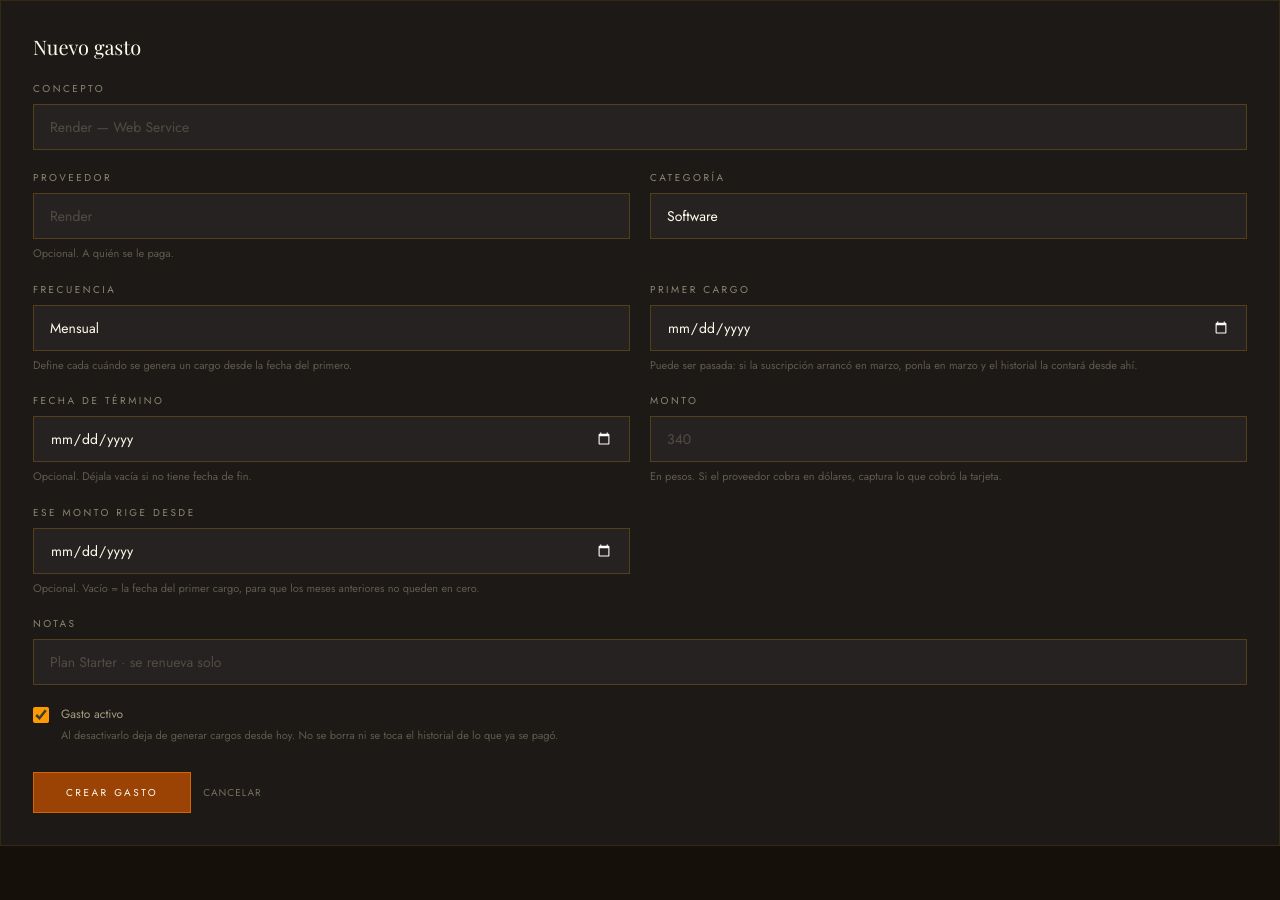
Test: ExpenseForm › validación (espejo del backend) › exige un concepto
The image size is (1280, 900).
Type "2026-03-01" into the date field labelled "Primer cargo" at (948, 328), box [650, 304, 1247, 350]
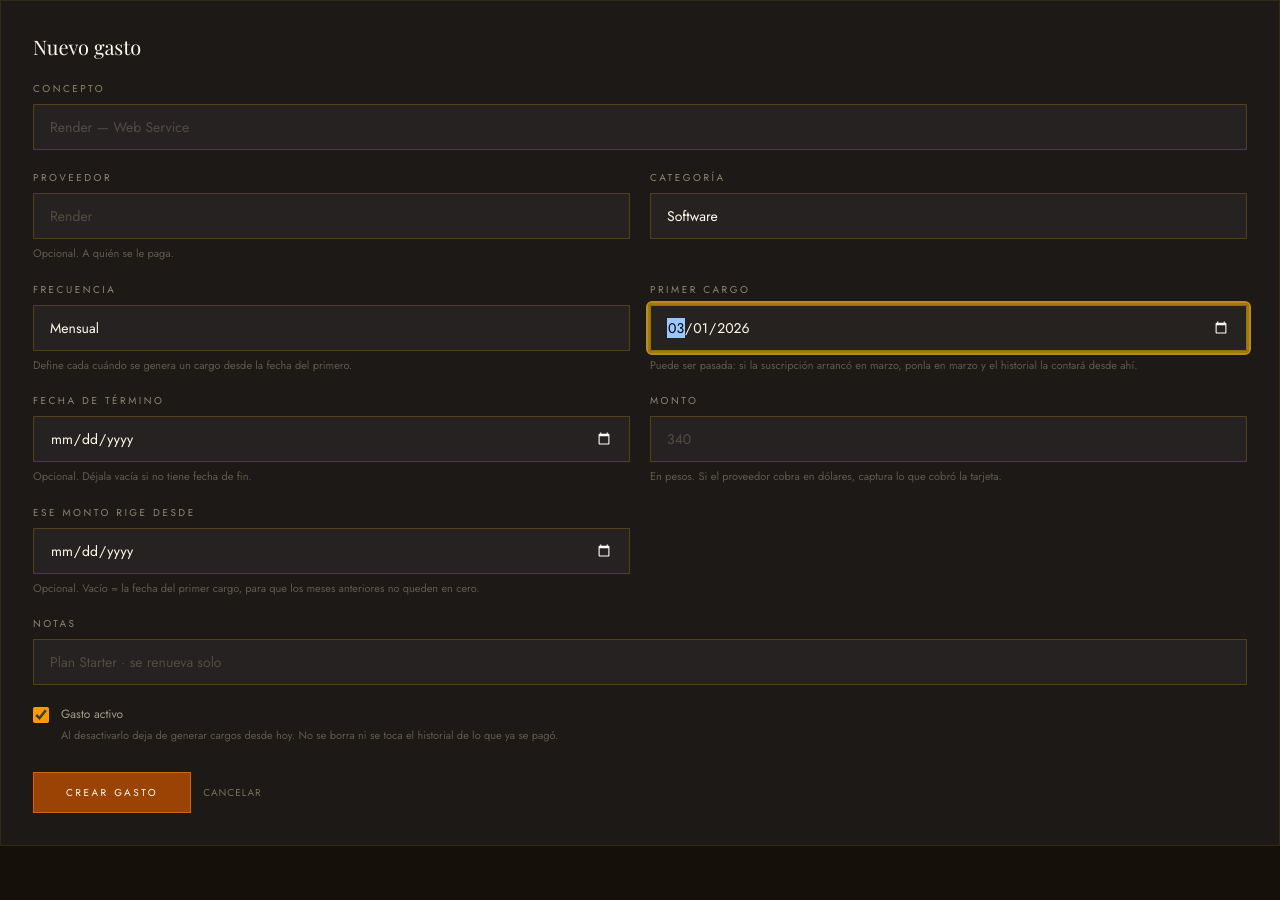
Type "290" into the field labelled "Monto" at (948, 439), box [650, 416, 1247, 462]
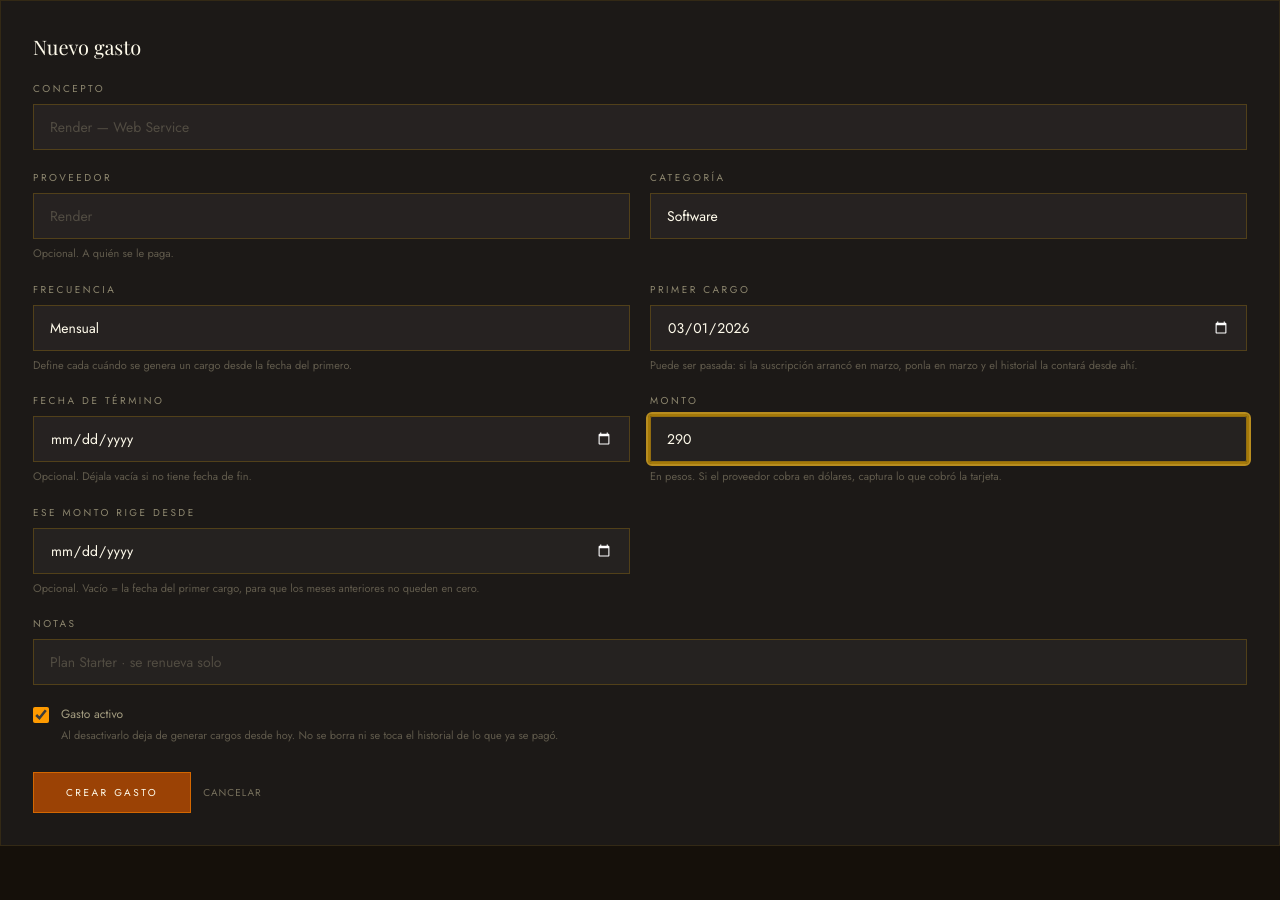
Click the button "Crear gasto" at (112, 793), box [33, 772, 191, 813]
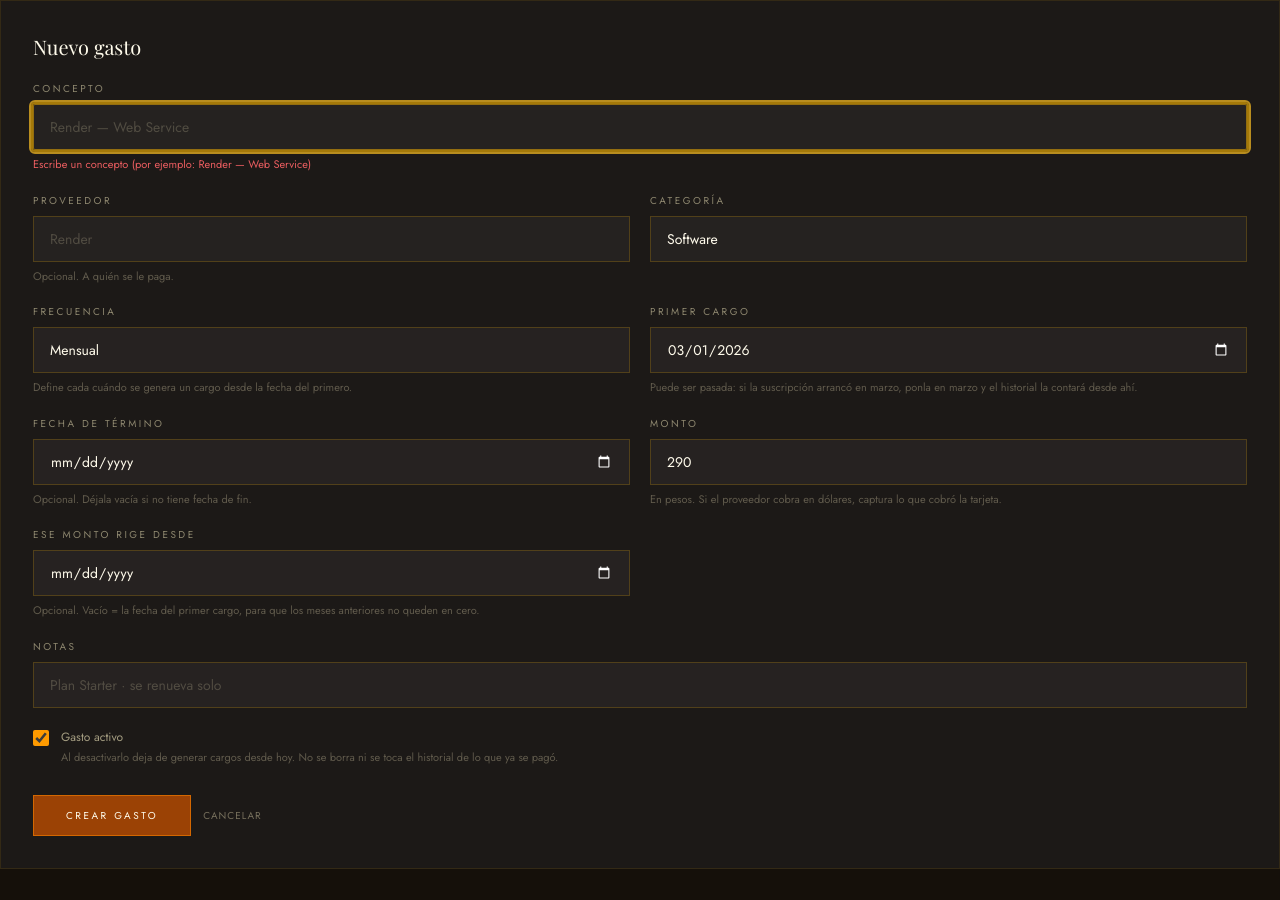
expect the text "Escribe un concepto (por ejemplo: Render — Web Service)" is shown: met, box [33, 156, 311, 172]
